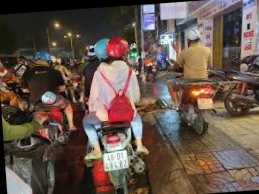Bien-so: (103, 151, 130, 172), (198, 96, 215, 110)
